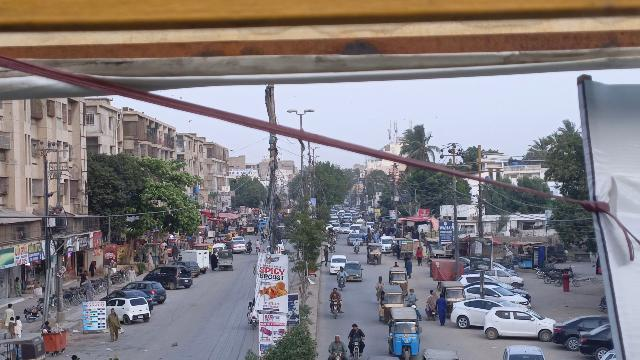Bike: (349, 337, 365, 358), (330, 299, 342, 321), (336, 275, 349, 293), (426, 307, 437, 321), (250, 313, 257, 331)
Car: (482, 304, 555, 342), (551, 313, 606, 350), (450, 297, 504, 328), (145, 264, 195, 291), (106, 296, 151, 324), (576, 320, 610, 357), (124, 279, 168, 306), (499, 343, 547, 360)
Person: (106, 308, 122, 343), (435, 292, 448, 328), (326, 334, 349, 352), (81, 280, 98, 304), (348, 319, 365, 341), (328, 284, 341, 303), (2, 302, 15, 317), (248, 295, 258, 314), (7, 315, 15, 337), (427, 289, 437, 306), (15, 314, 22, 337), (337, 266, 348, 279)
Rickshaw: (385, 306, 422, 359), (377, 285, 404, 320), (388, 266, 409, 295), (441, 281, 466, 303), (216, 248, 235, 271), (365, 242, 383, 266)
Truck: (176, 249, 211, 270)
